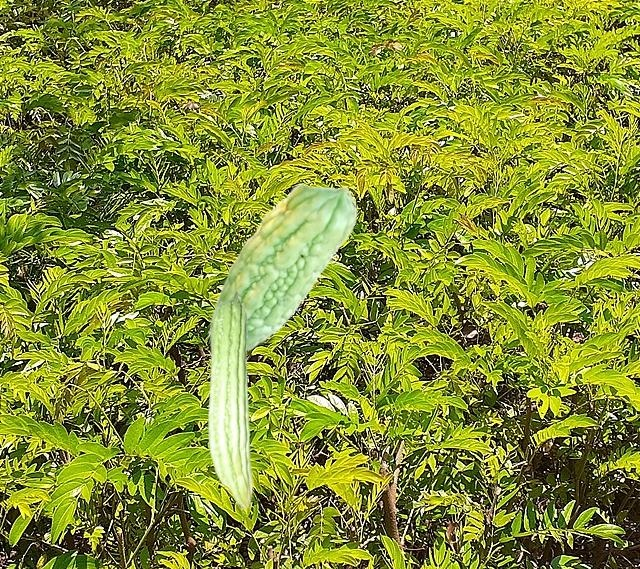ampalaya: (208, 183, 359, 353), (207, 289, 254, 510)
